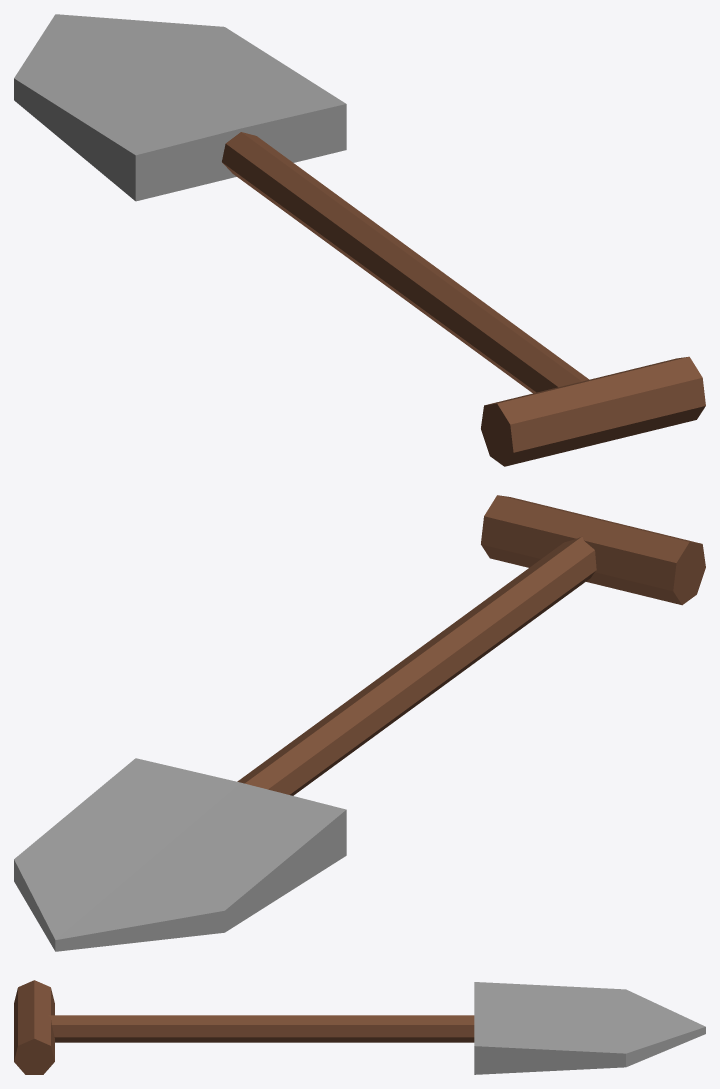
File: lopata.fbx
The picture shows the model from 3 angles, top to bottom: view 1: azimuth 30°, elevation 25°; view 2: azimuth 150°, elevation 25°; view 3: azimuth 270°, elevation 25°; orthographic projection. The views are drawn at different scales.
Parts seen in each view (by area): view 1: lopata; view 2: lopata; view 3: lopata.
Part boxes in pixels (x1=…): lopata: x1=14, y1=14, x2=705, y2=466; lopata: x1=14, y1=495, x2=705, y2=951; lopata: x1=14, y1=980, x2=705, y2=1074.
Bounding box in the file's own units: 334 × 87.78 × 1523.
